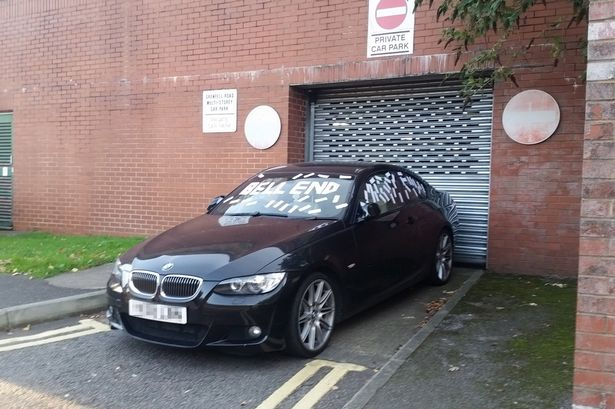car: (108, 158, 459, 354)
